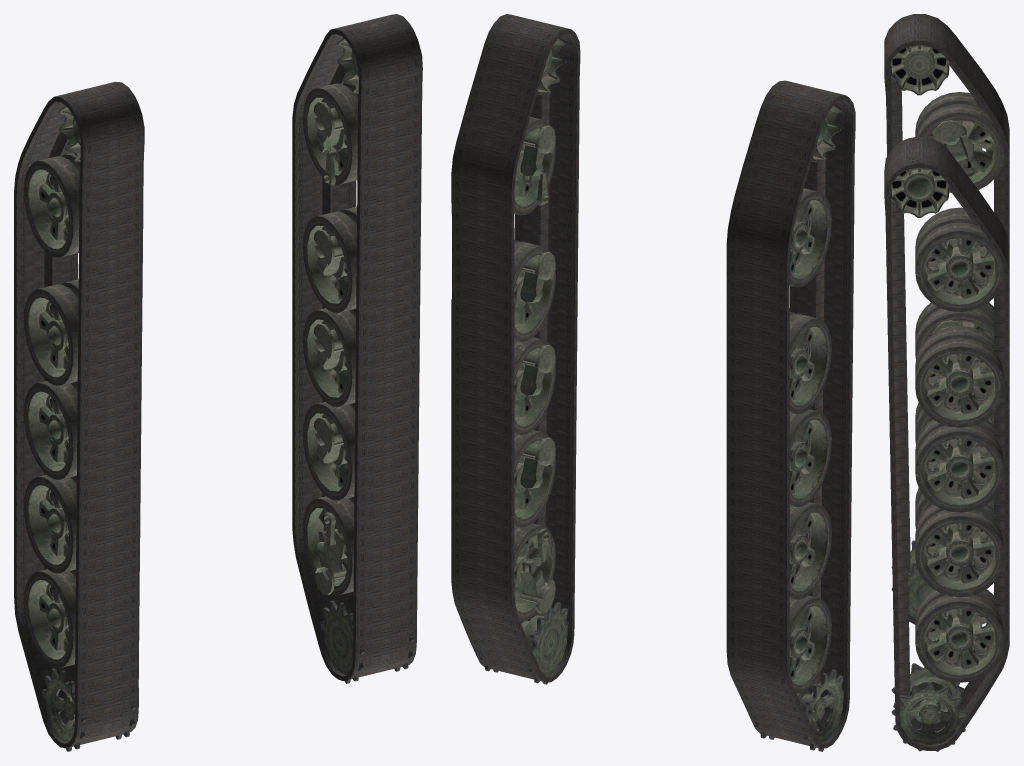
The model's file is Chassis.glb.
3 views of the same model, side by side, from view 1: azimuth 30°, elevation 25°; view 2: azimuth 150°, elevation 25°; view 3: azimuth 270°, elevation 25° (orthographic). The views are drawn at different scales.
Parts seen in each view (by area): view 1: set_2_group_0, set_3_group_0, set_0_group_0, set_1_group_0; view 2: set_3_group_0, set_2_group_0, set_0_group_0, set_1_group_0; view 3: set_0_group_0, set_2_group_0, set_1_group_0, set_3_group_0.
Part boxes in pixels (<box>): set_2_group_0: <box>292,14,422,680</box>; set_3_group_0: <box>14,81,144,748</box>; set_0_group_0: <box>302,38,414,683</box>; set_1_group_0: <box>24,105,135,751</box>; set_3_group_0: <box>726,80,855,748</box>; set_2_group_0: <box>451,14,580,682</box>; set_0_group_0: <box>479,38,567,684</box>; set_1_group_0: <box>755,104,843,751</box>; set_0_group_0: <box>889,167,1004,751</box>; set_2_group_0: <box>884,136,1009,750</box>; set_1_group_0: <box>889,45,1004,618</box>; set_3_group_0: <box>884,14,1009,624</box>.
Bounding box in the file's own units: 3.2 × 5.89 × 1.13.
4 materials, 4 textured.
